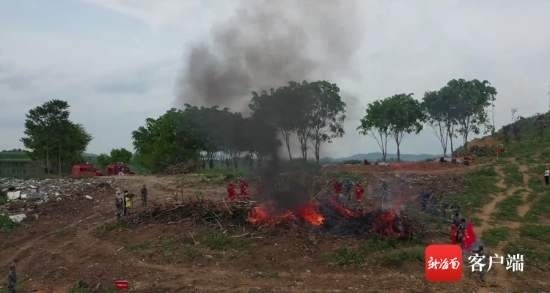fire: (247, 194, 333, 228)
